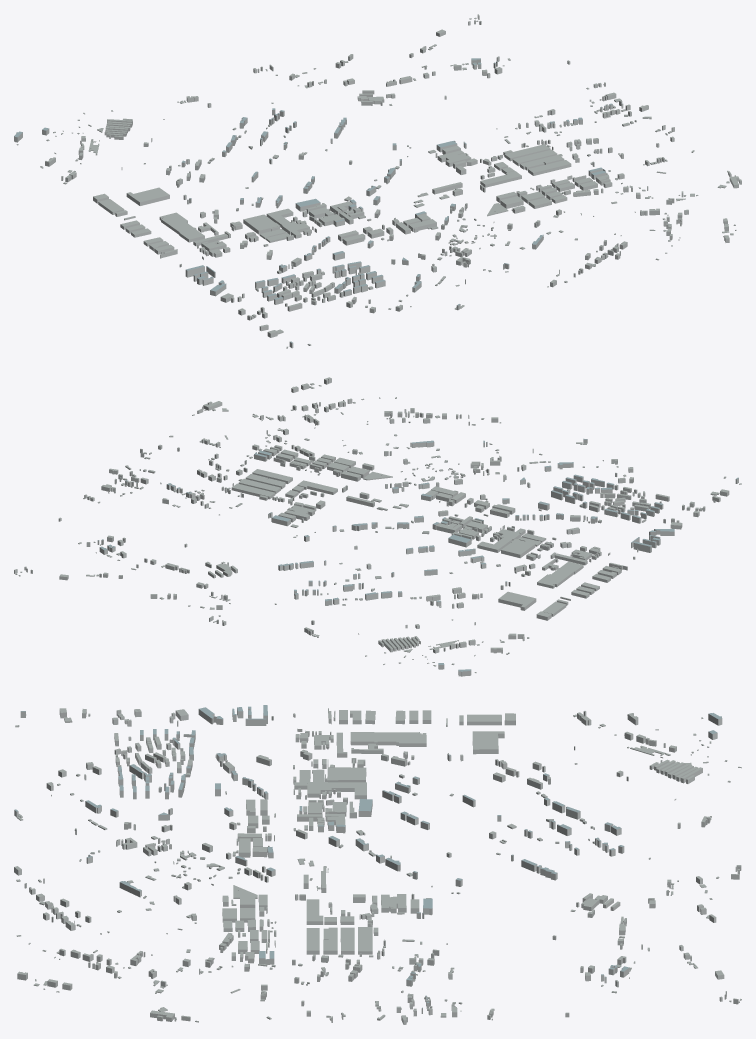
The model's file is far.glb.
3 views of the same model, one above another, from view 1: azimuth 30°, elevation 25°; view 2: azimuth 150°, elevation 25°; view 3: azimuth 270°, elevation 25° (orthographic). The views are drawn at different scales.
Bounding box in the file's own units: 2134 × 27 × 2104.
